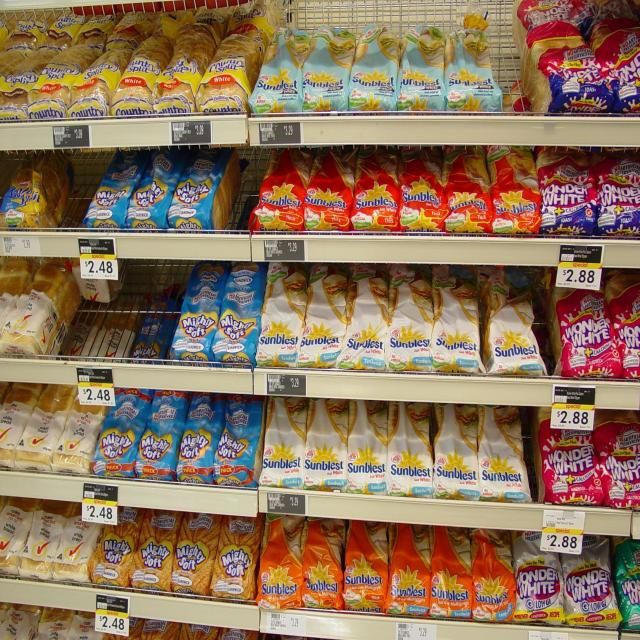empty_space: (86, 281, 170, 347)
